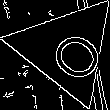O_NW: (31, 17, 102, 82)
